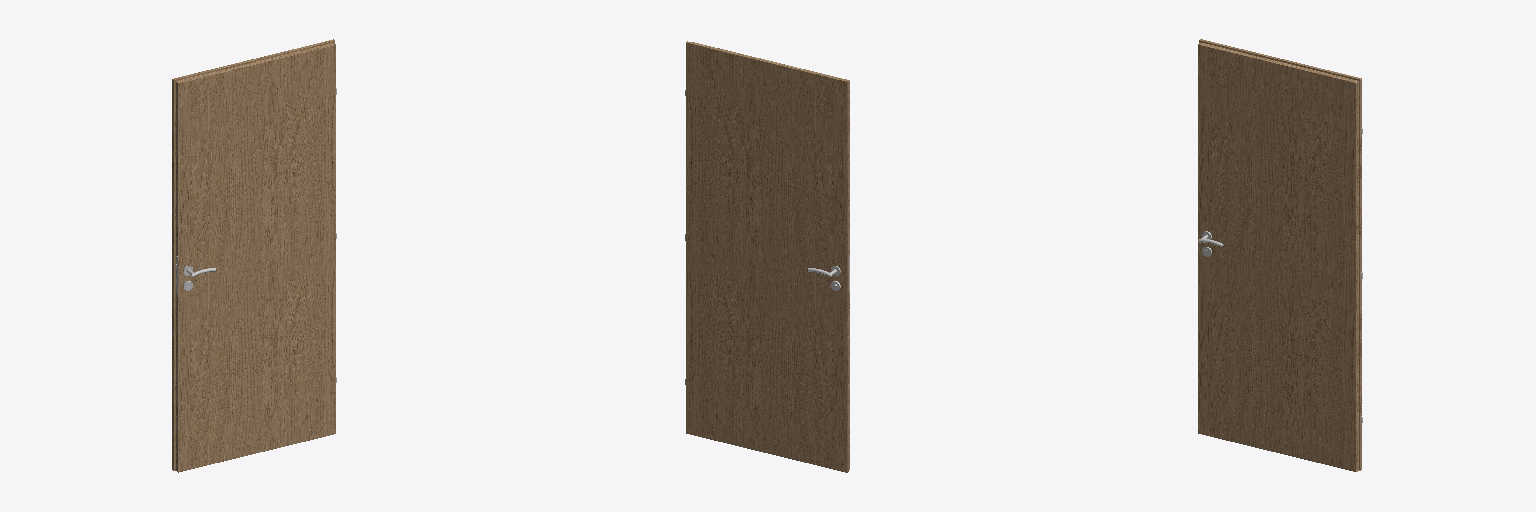
3 views of the same model, side by side, from view 1: azimuth 30°, elevation 25°; view 2: azimuth 150°, elevation 25°; view 3: azimuth 330°, elevation 25° (orthographic).
Visible parts, largest first — view 1: door_MF_leaf_door_MF_leaf.002; view 2: door_MF_leaf_door_MF_leaf.002; view 3: door_MF_leaf_door_MF_leaf.002.
Boxes of the visible parts, x1,y1,x2,y2 form: door_MF_leaf_door_MF_leaf.002: [172, 39, 336, 472]; door_MF_leaf_door_MF_leaf.002: [685, 41, 849, 472]; door_MF_leaf_door_MF_leaf.002: [1198, 39, 1362, 471].
Size of the model in its own units: 0.8891 by 2.03 by 0.1738.
2 materials, 1 textured.